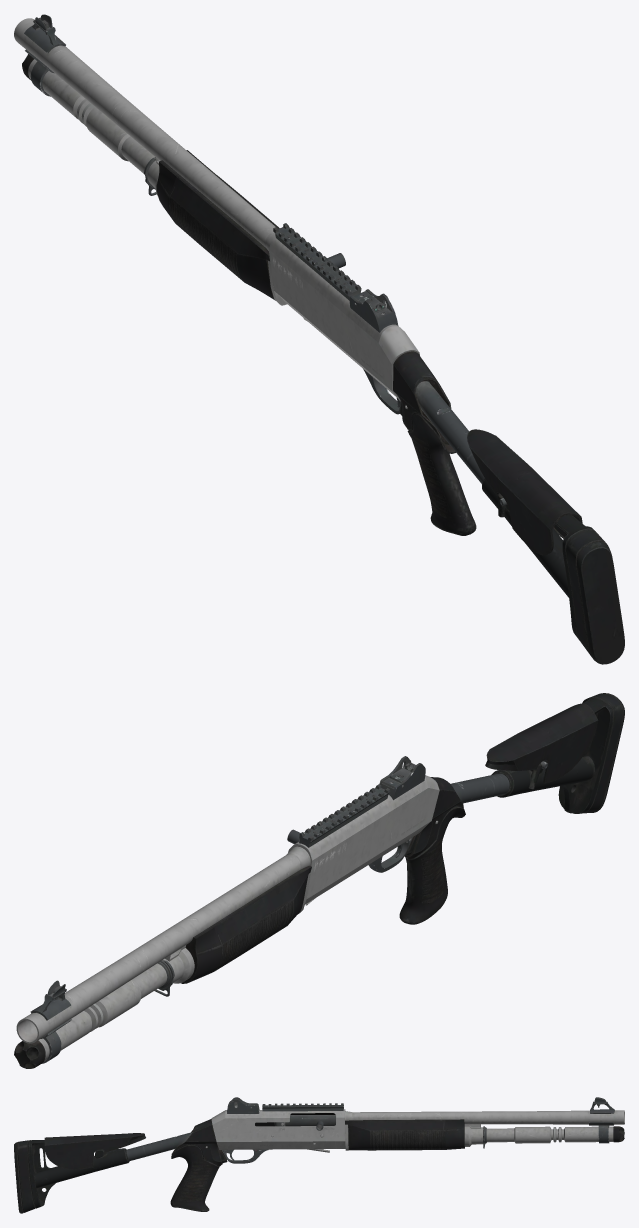
3 renders of one model, top to bottom at view 1: azimuth 30°, elevation 25°; view 2: azimuth 150°, elevation 25°; view 3: azimuth 270°, elevation 25°, orthographic. The views are drawn at different scales.
Parts seen in each view (by area): view 1: Shotgun_M4_Silver; view 2: Shotgun_M4_Silver; view 3: Shotgun_M4_Silver.
Boxes of the visible parts, bbox=[...] form: Shotgun_M4_Silver: bbox=[14, 14, 624, 664]; Shotgun_M4_Silver: bbox=[14, 693, 624, 1068]; Shotgun_M4_Silver: bbox=[14, 1097, 624, 1213].
Size of the model in its own units: 0.0663 by 0.2159 by 1.03.
1 material, 1 textured.
